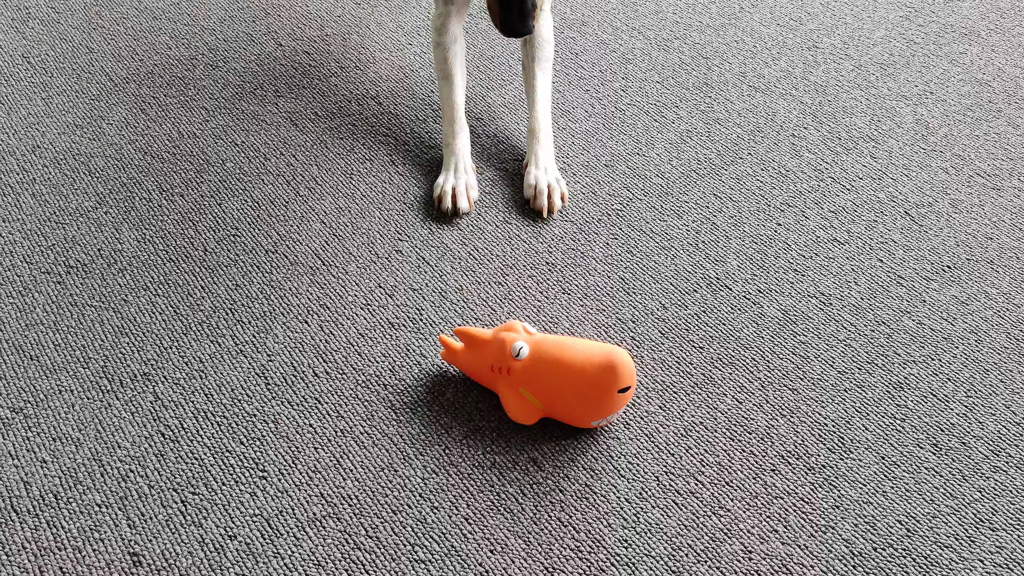Dog: (409, 0, 596, 252)
